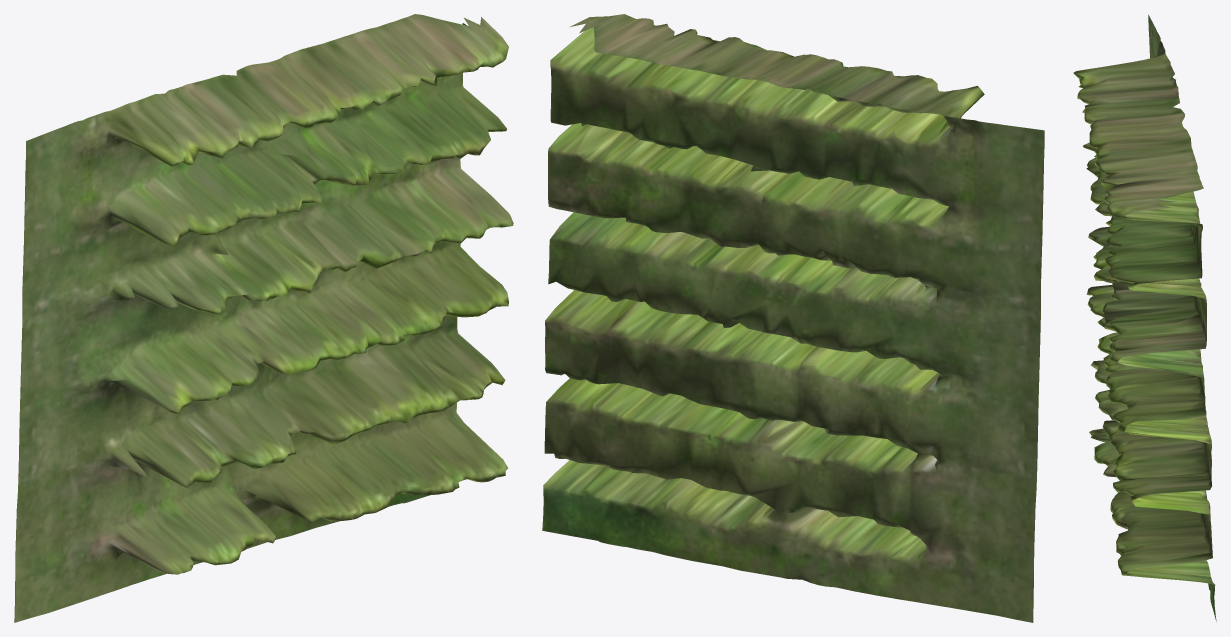
File: map_190_90.obj
3 renders of one model, left to right at view 1: azimuth 30°, elevation 25°; view 2: azimuth 150°, elevation 25°; view 3: azimuth 270°, elevation 25°, orthographic. The views are drawn at different scales.
Bounding box in the file's own units: 10 × 10 × 3.13.
1 material, 1 textured.
